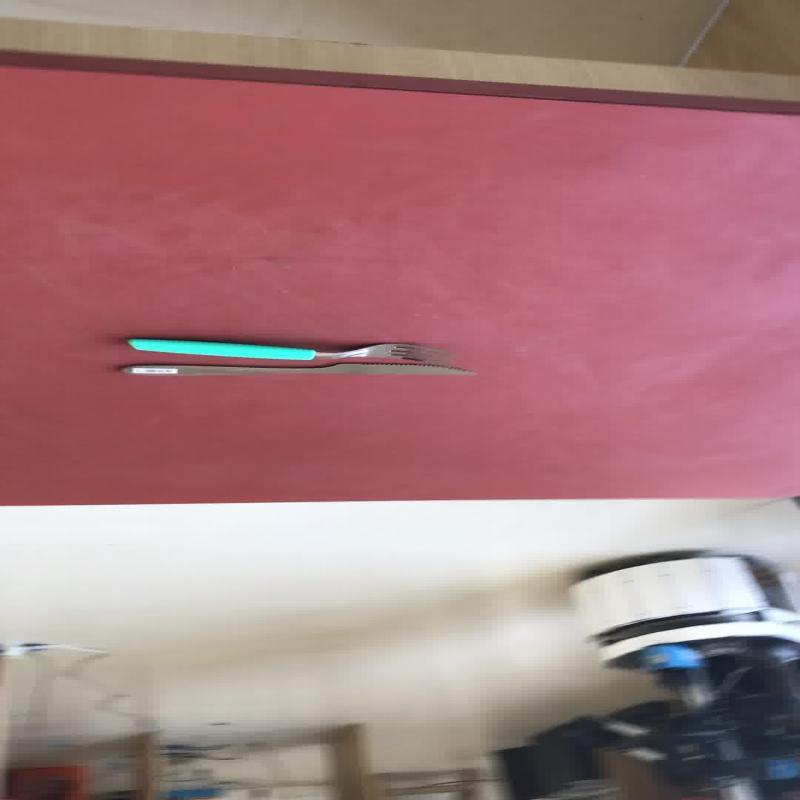fork: (121, 336, 450, 362)
knife: (116, 334, 474, 376), (118, 361, 474, 376)
